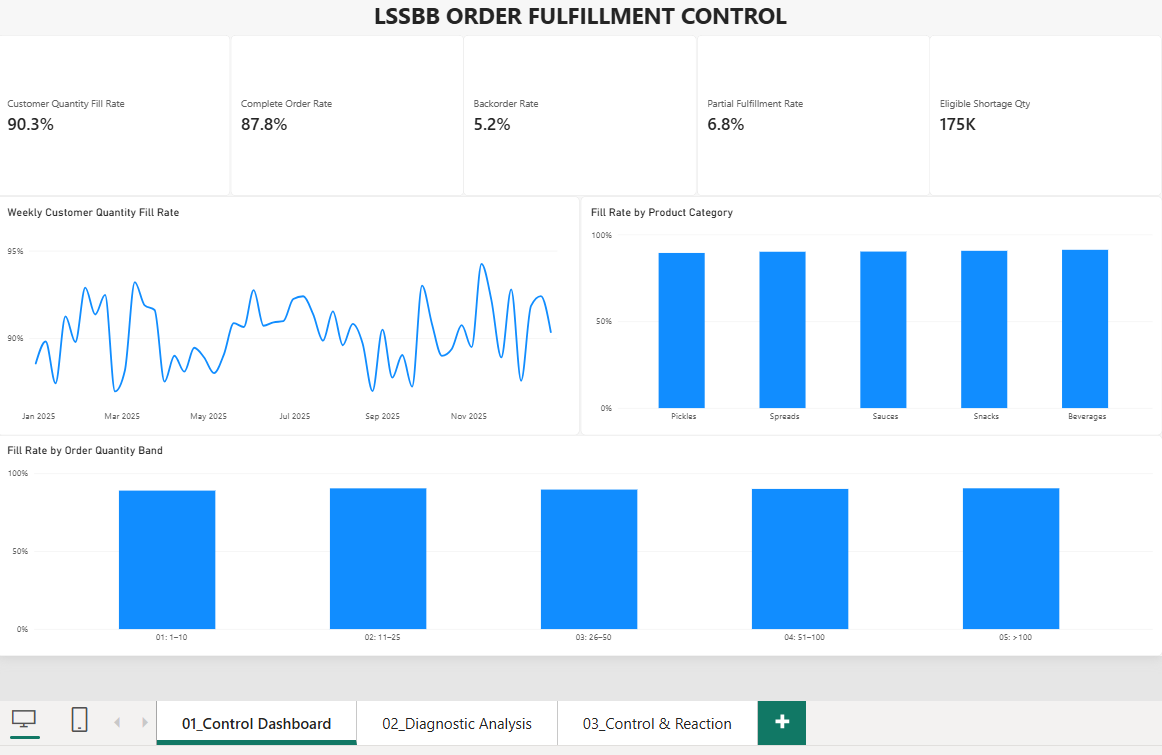

The page's visual inventory and layout, read from the dashboard file:
{"tool":"powerbi","page":{"name":"01_Control Dashboard","canvas":[1920,1080],"ordinal":0},"visuals":[{"type":"cardVisual","title":"Customer Fill Rate","fields":{"Data":["order_fulfillment_analytical_dataset.Customer Quantity Fill Rate"]},"box":[0,57.6,384.1,265],"z":0},{"type":"cardVisual","title":"Complete Order Rate","fields":{"Data":["order_fulfillment_analytical_dataset.Complete Order Rate"]},"box":[384.4,57.6,384.1,265],"z":1000},{"type":"cardVisual","title":"Backorder Rate","fields":{"Data":["order_fulfillment_analytical_dataset.Backorder Rate"]},"box":[768.4,57.6,384.1,265],"z":2000},{"type":"cardVisual","title":"Partial Fulfillment Rate","fields":{"Data":["order_fulfillment_analytical_dataset.Partial Fulfillment Rate"]},"box":[1152.4,57.6,384.1,265],"z":3000},{"type":"cardVisual","title":"Shortage Quantity","fields":{"Data":["order_fulfillment_analytical_dataset.Eligible Shortage Qty"]},"box":[1536.3,57.6,384.1,265],"z":4000},{"type":"lineChart","title":"Weekly Customer Quantity Fill Rate","fields":{"Category":["order_fulfillment_analytical_dataset.Week Start"],"Y":["order_fulfillment_analytical_dataset.Customer Quantity Fill Rate"]},"box":[0,322.6,959.2,393.6],"z":4001},{"type":"clusteredColumnChart","title":"Fill Rate by Product Category","fields":{"Category":["order_fulfillment_analytical_dataset.Category"],"Y":["order_fulfillment_analytical_dataset.Customer Quantity Fill Rate"]},"box":[961.2,322.6,959.2,393.6],"z":4002},{"type":"columnChart","title":"Fill Rate by Order Quantity Band","fields":{"Category":["order_fulfillment_analytical_dataset.Order Quantity Band"],"Y":["order_fulfillment_analytical_dataset.Customer Quantity Fill Rate"]},"box":[0,716.2,1920.4,364.4],"z":4003},{"type":"textbox","box":[0,0,1920.4,57.6],"z":4005}]}

Visuals, with their boxes on the page's 1920x1080 design canvas (x1, y1, x2, y2). These are canvas units, not pixel positions in the 1162x755 screenshot, which may show the page scaled, cropped or inside an application window:
"Customer Fill Rate" cardVisual: Rect(0, 58, 384, 323)
"Complete Order Rate" cardVisual: Rect(384, 58, 768, 323)
"Backorder Rate" cardVisual: Rect(768, 58, 1152, 323)
"Partial Fulfillment Rate" cardVisual: Rect(1152, 58, 1536, 323)
"Shortage Quantity" cardVisual: Rect(1536, 58, 1920, 323)
"Weekly Customer Quantity Fill Rate" lineChart: Rect(0, 323, 959, 716)
"Fill Rate by Product Category" clusteredColumnChart: Rect(961, 323, 1920, 716)
"Fill Rate by Order Quantity Band" columnChart: Rect(0, 716, 1920, 1081)
textbox: Rect(0, 0, 1920, 58)
